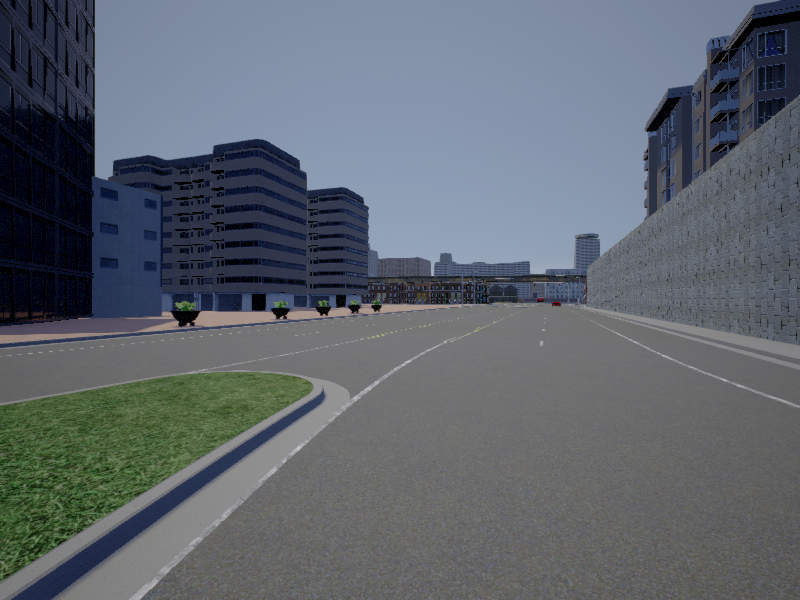Attacker: (536, 296, 546, 303)
Benign: (551, 299, 564, 307)
